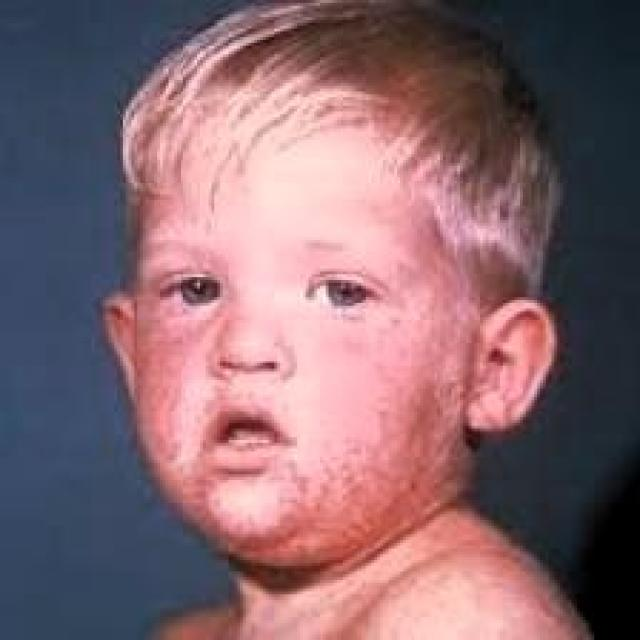others: (111, 205, 591, 640)
